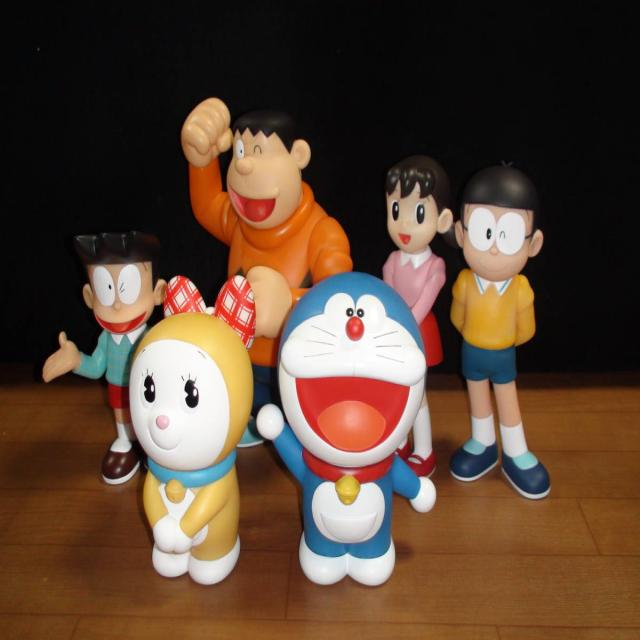doraemon: (250, 252, 456, 514)
jaian: (209, 96, 318, 249)
nobita: (442, 154, 549, 315)
shizuka: (374, 145, 463, 267)
suneo: (64, 209, 170, 358)
